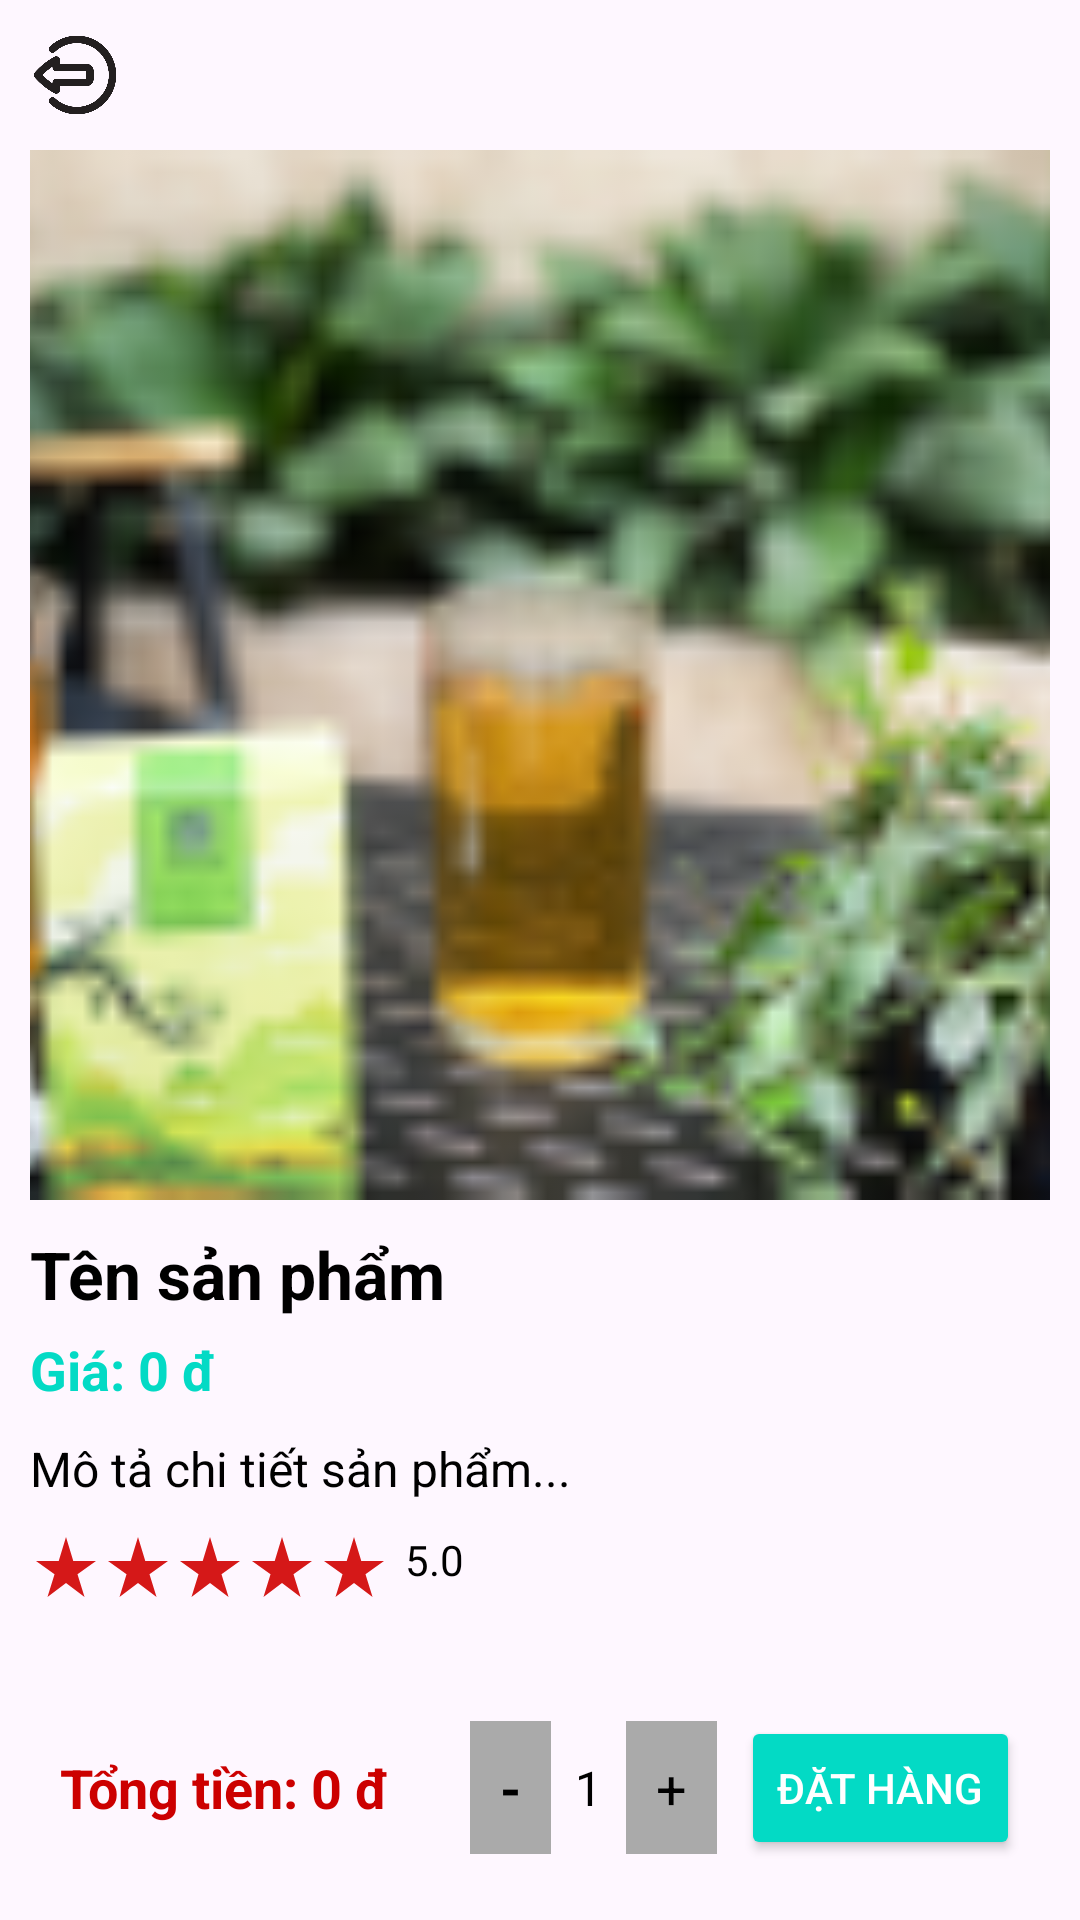

Where to tap for icons on this 1080 × 1920 app screen, as point (x, y):
exit: point (75, 75)
star rate: point (66, 1567), point (138, 1567), point (210, 1567), point (282, 1567), point (354, 1567)
